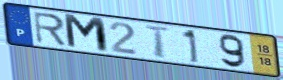1: (181, 29, 201, 65)
2: (108, 22, 138, 57)
9: (218, 34, 248, 69)
M: (61, 12, 112, 55)
R: (32, 11, 69, 48)
T: (143, 24, 174, 60)
